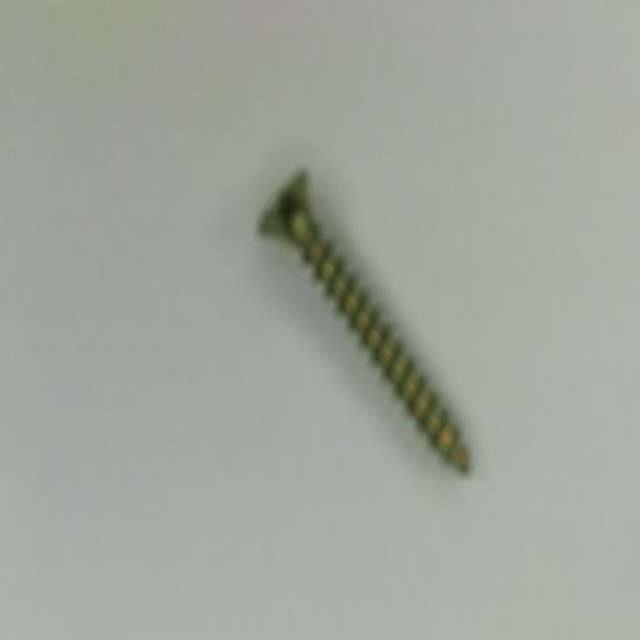Parafuso: (260, 171, 468, 471)
